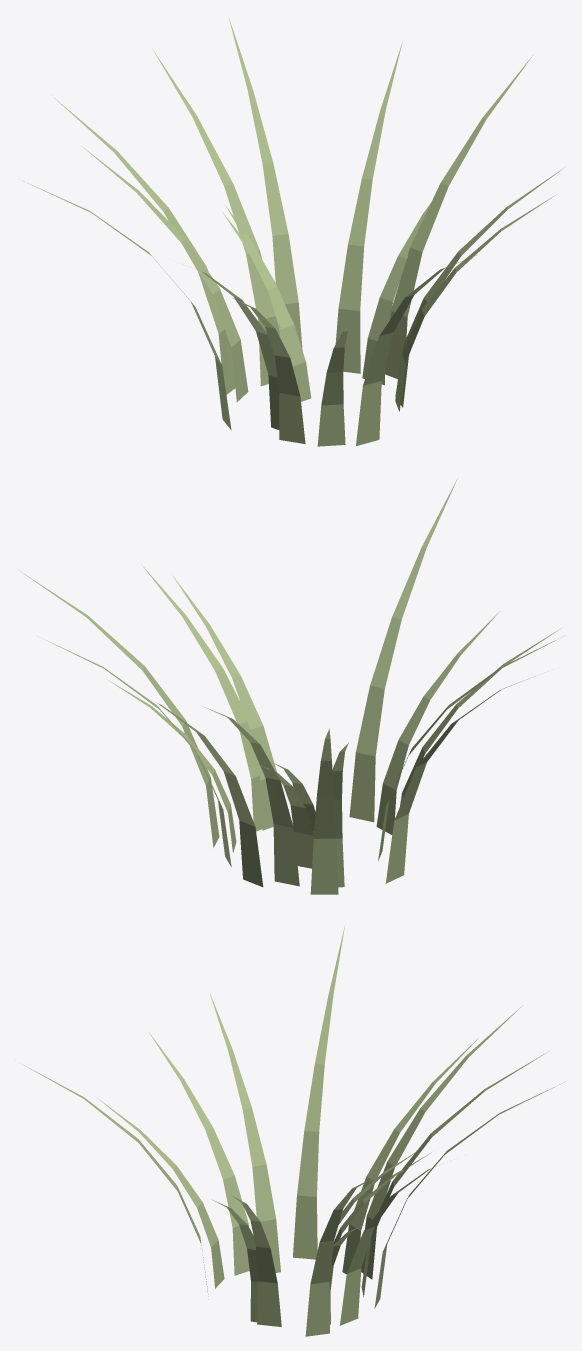
Rendered from meadow-grass-clump.glb.
3 views of the same model, one above another, from view 1: azimuth 30°, elevation 25°; view 2: azimuth 150°, elevation 25°; view 3: azimuth 270°, elevation 25° (orthographic). The views are drawn at different scales.
Parts seen in each view (by area): view 1: meadow-grass-clump; view 2: meadow-grass-clump; view 3: meadow-grass-clump.
Part boxes in pixels (left/top/right/bottom): meadow-grass-clump: left=21, top=17, right=564, bottom=446; meadow-grass-clump: left=17, top=478, right=561, bottom=894; meadow-grass-clump: left=15, top=924, right=564, bottom=1336.
Bounding box in the file's own units: 0.7042 × 0.3487 × 0.6963.
